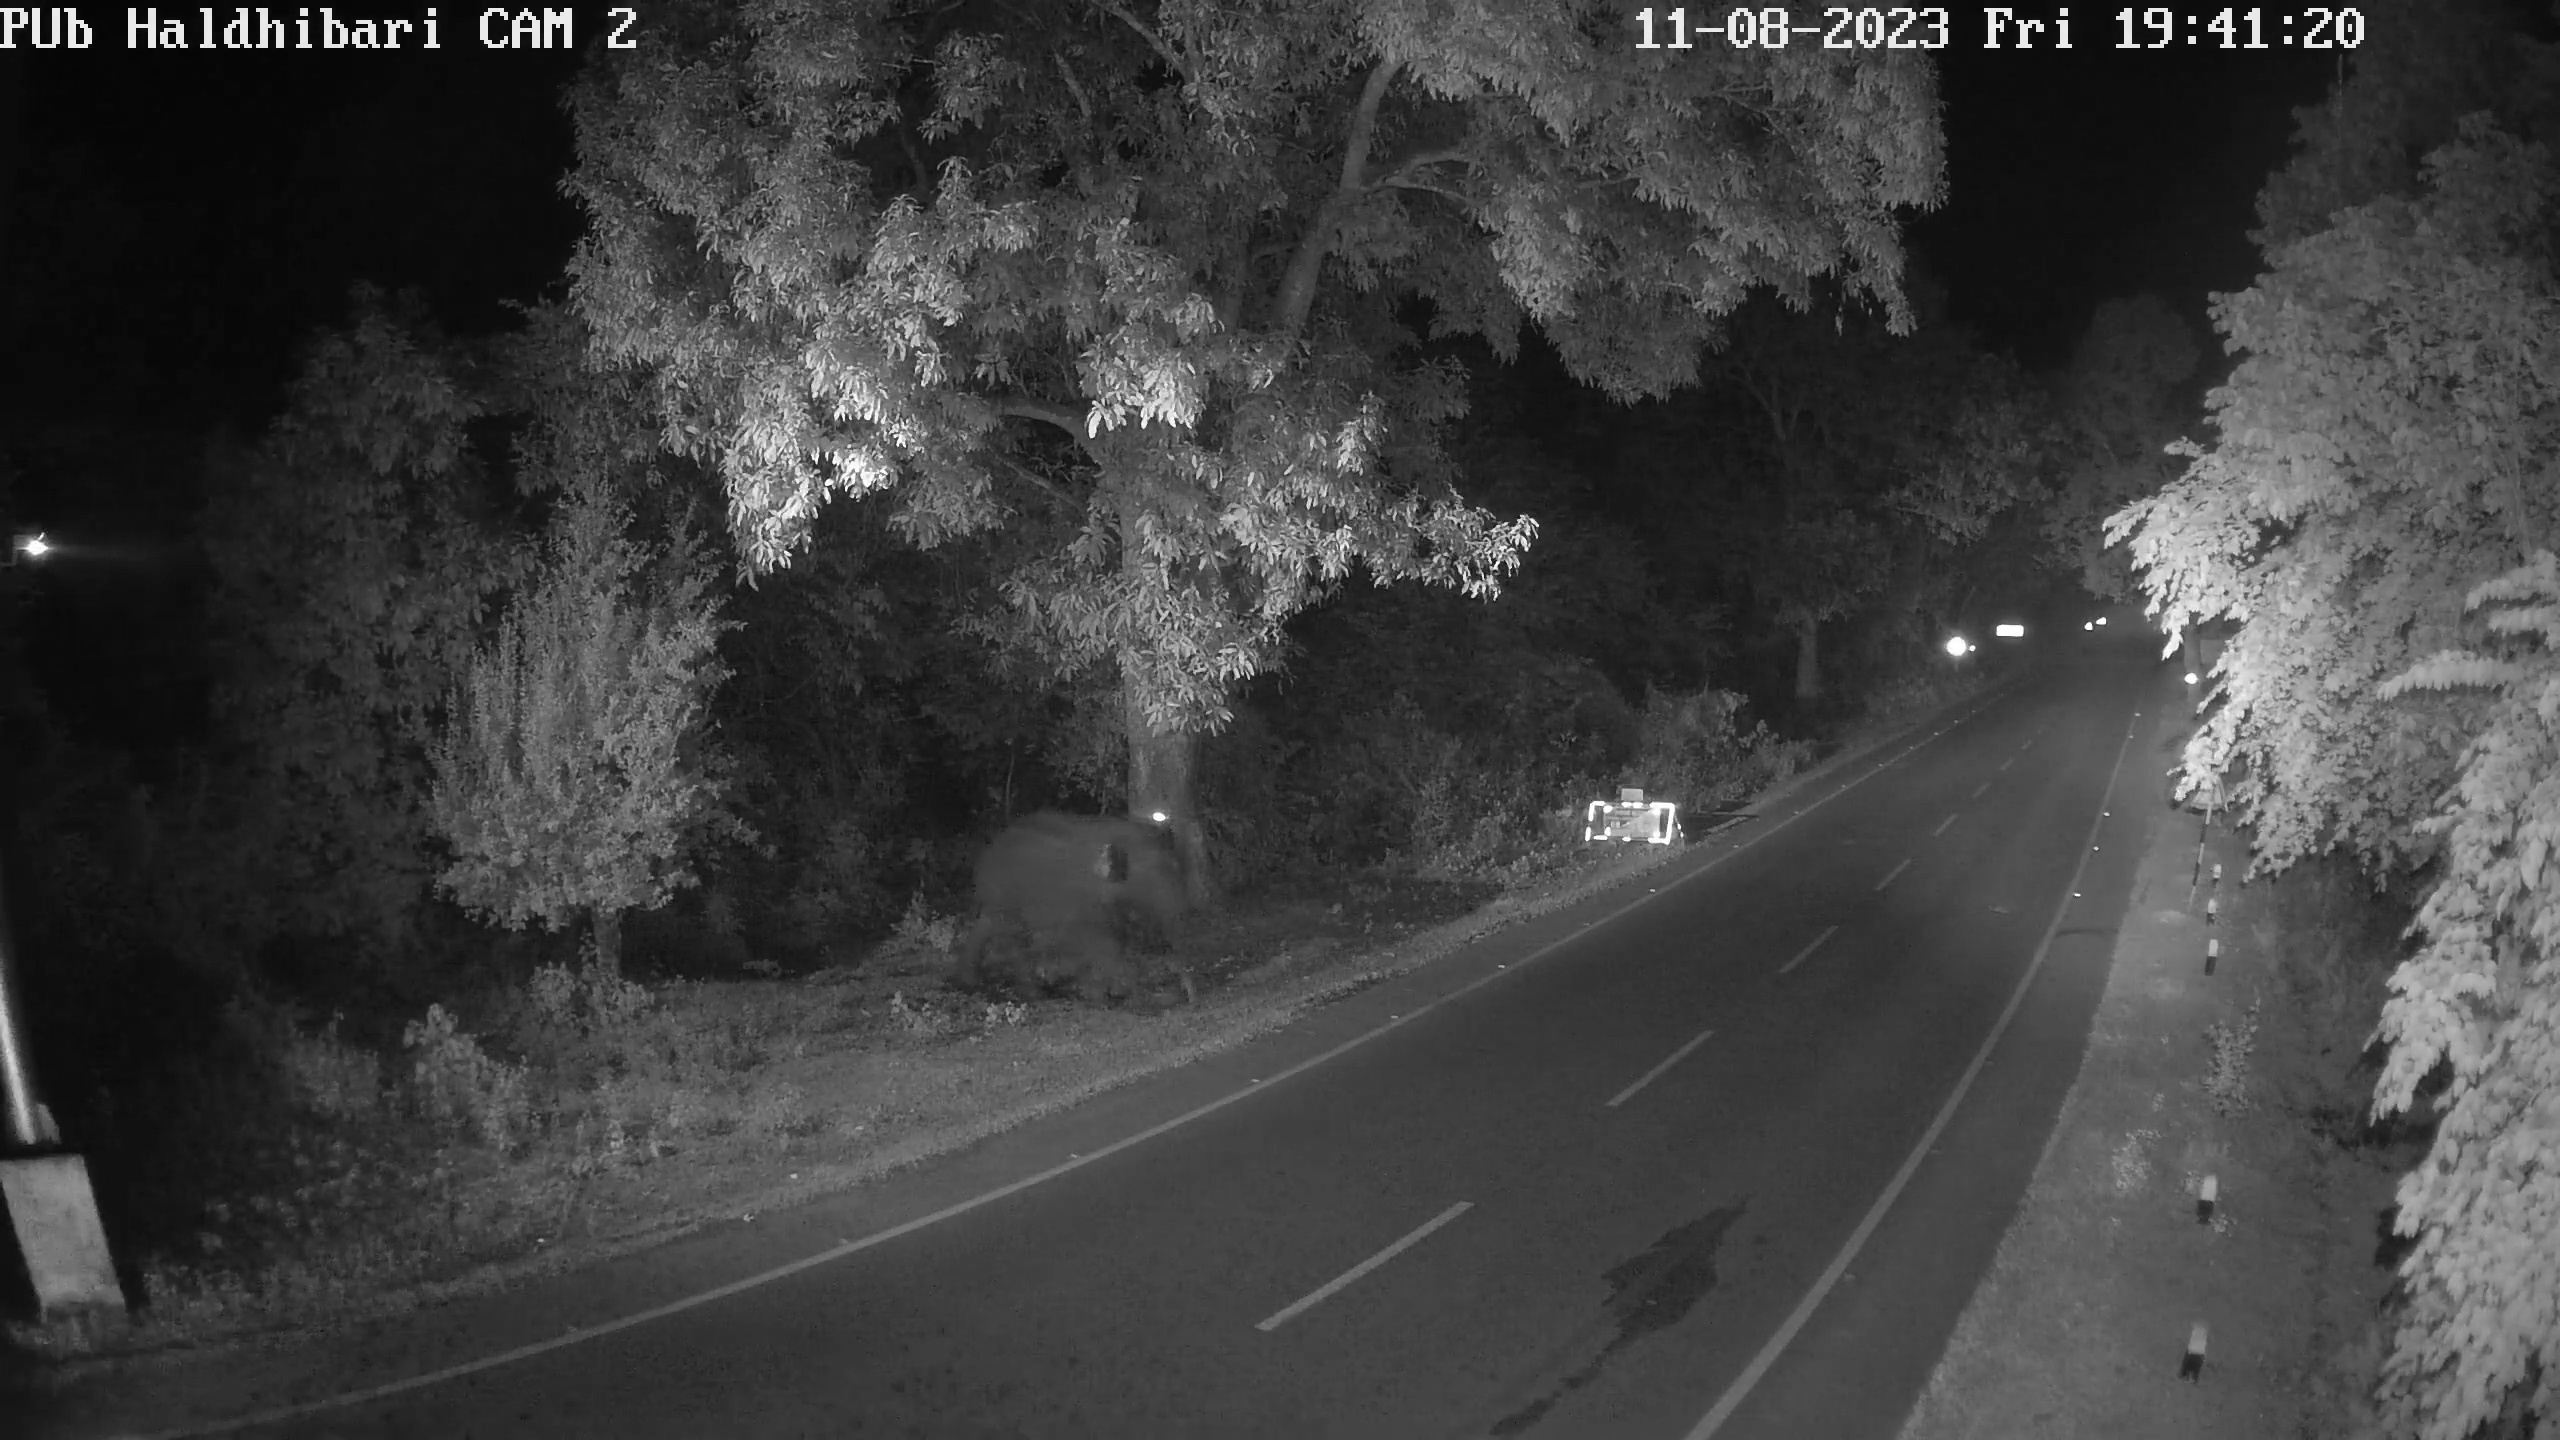elephants: (964, 807, 1199, 1002)
